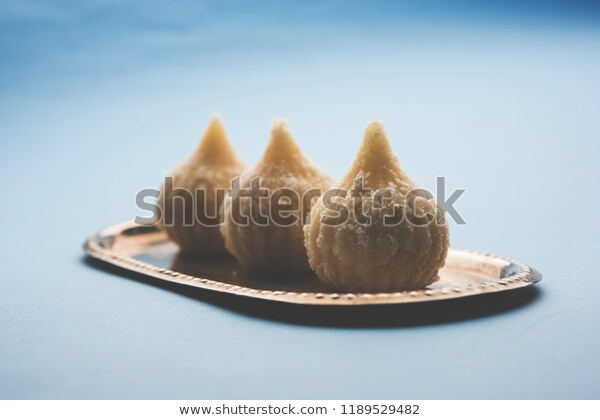modak: (302, 131, 454, 278), (228, 119, 336, 275), (145, 107, 248, 248)
